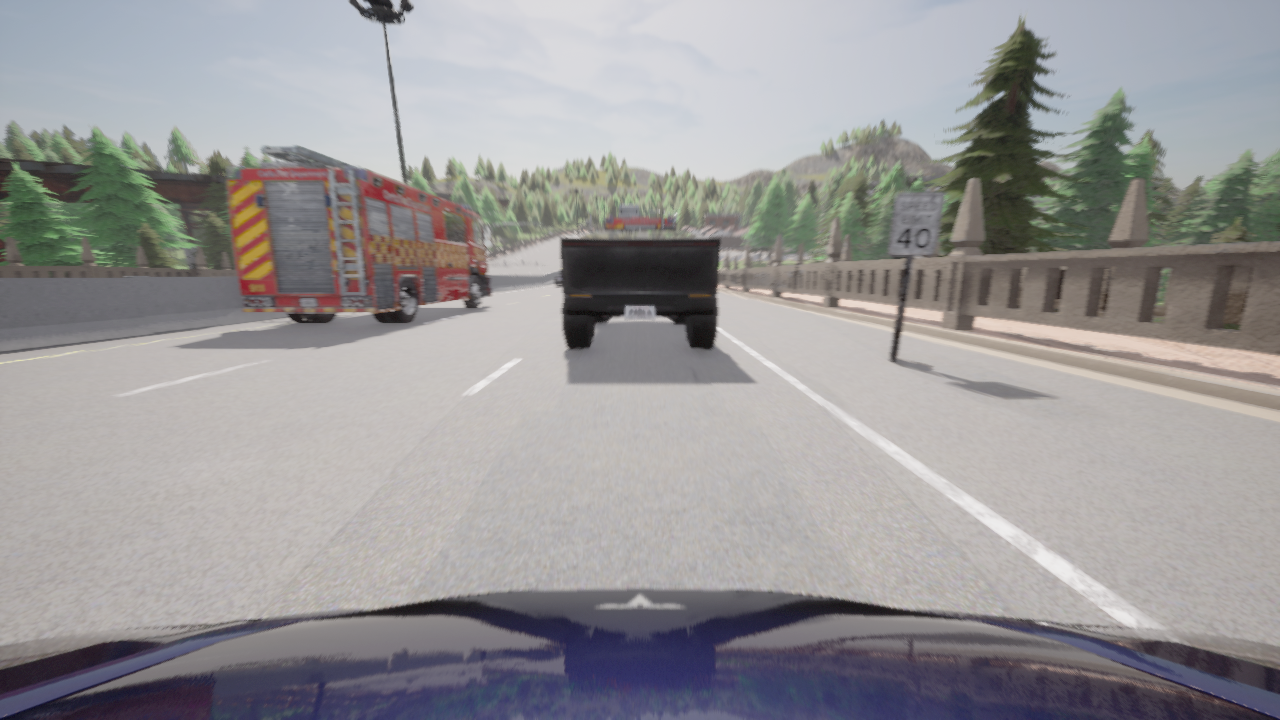cyclist: (0, 588, 1279, 719), (226, 145, 491, 323), (560, 229, 719, 348), (604, 205, 676, 228), (555, 269, 562, 286)
